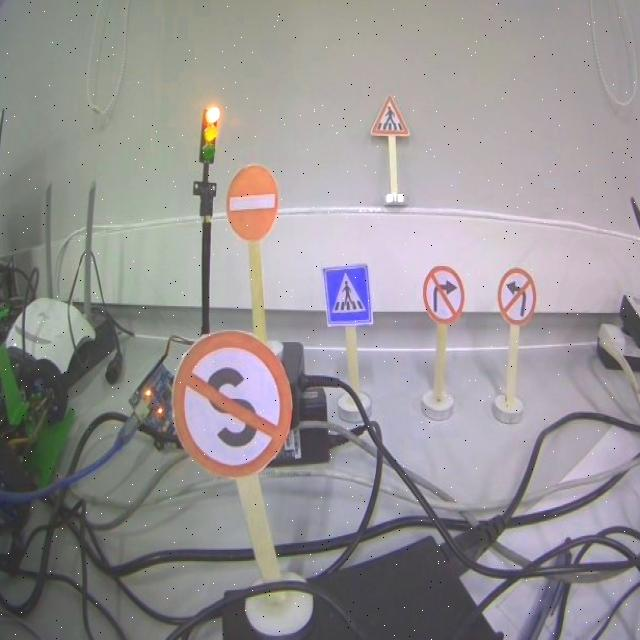Dilarang Belok Kanan: (423, 266, 464, 321)
Dilarang Belok Kiri: (498, 269, 536, 324)
Dilarang Masuk: (226, 165, 278, 240)
Lampu Hijau: (200, 106, 219, 164)
Rambu Berhenti: (175, 331, 293, 472)
Rambu Penyebrangan: (322, 263, 372, 326), (372, 96, 409, 136)
